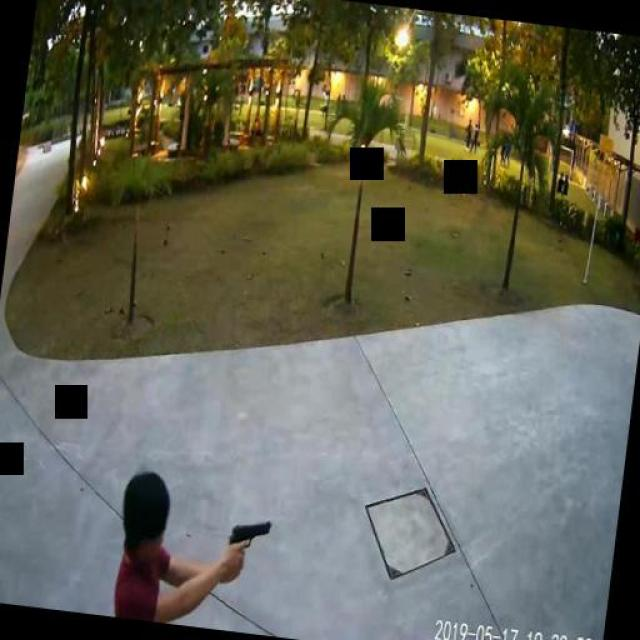gun: (224, 515, 271, 575)
